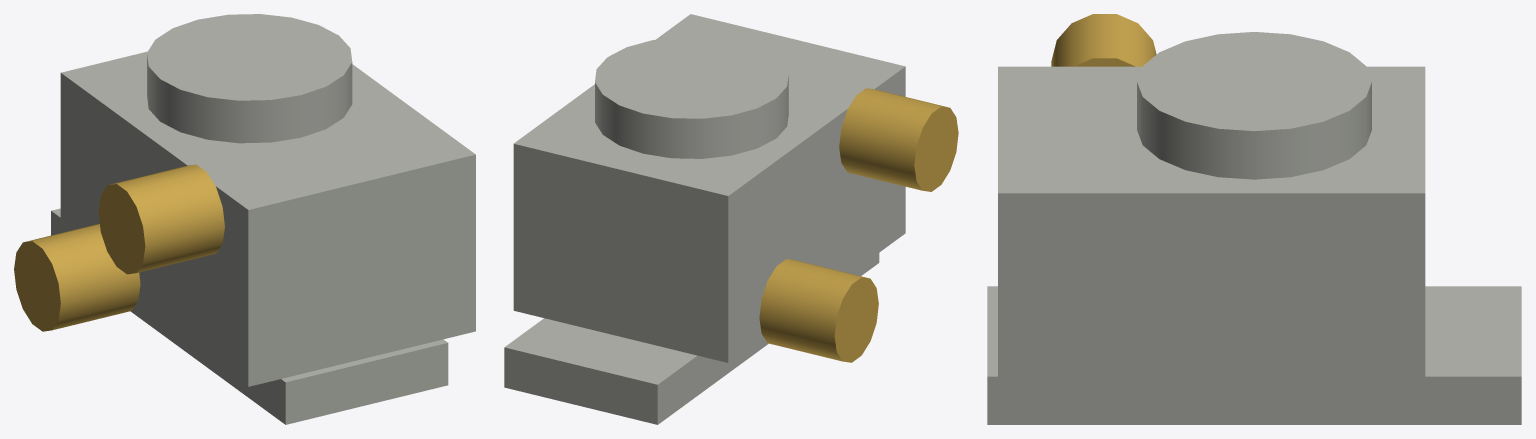
The model's file is warm-up-regulator.glb.
3 views of the same model, side by side, from view 1: azimuth 30°, elevation 25°; view 2: azimuth 150°, elevation 25°; view 3: azimuth 270°, elevation 25° (orthographic). The views are drawn at different scales.
Parts seen in each view (by area): view 1: warm-up-regulator:zincPlate, warm-up-regulator:brass; view 2: warm-up-regulator:zincPlate, warm-up-regulator:brass; view 3: warm-up-regulator:zincPlate, warm-up-regulator:brass.
Part boxes in pixels (box(x1,y1,x2,y2)): warm-up-regulator:zincPlate: box(51, 14, 475, 424); warm-up-regulator:brass: box(14, 164, 224, 331); warm-up-regulator:zincPlate: box(504, 14, 905, 424); warm-up-regulator:brass: box(759, 88, 958, 362); warm-up-regulator:zincPlate: box(987, 32, 1521, 424); warm-up-regulator:brass: box(1051, 14, 1156, 66).
Bounding box in the file's own units: 37.8 × 30.8 × 50.
